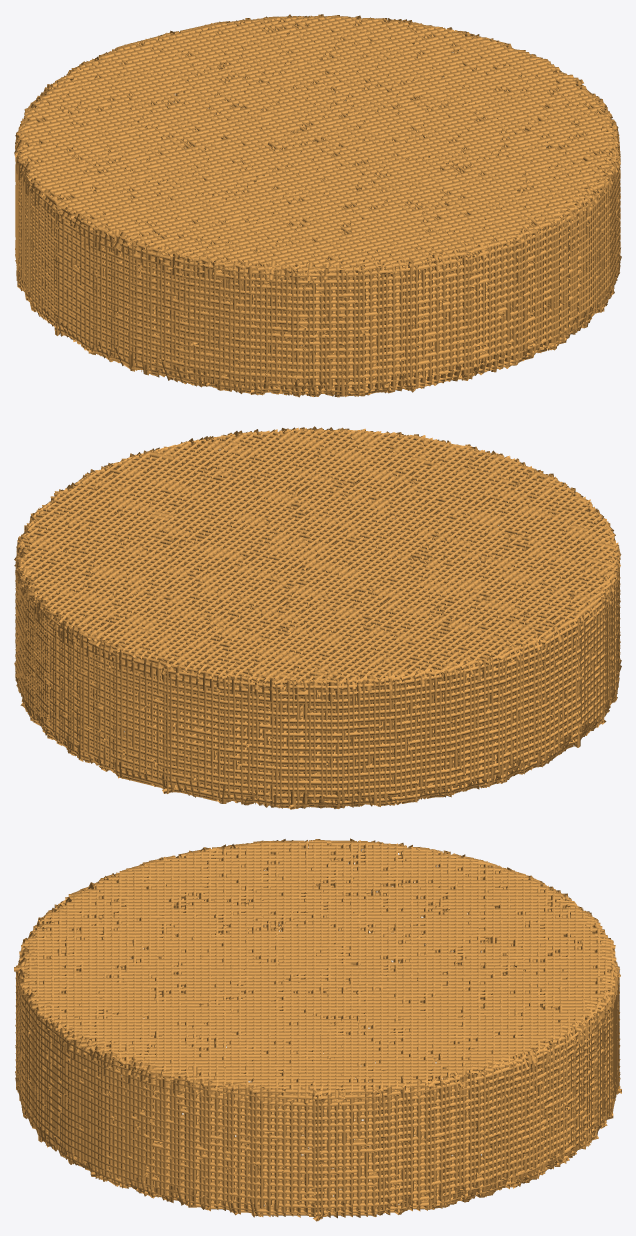
Rendered from Biscuit1.fbx.
The picture shows the model from 3 angles, top to bottom: view 1: azimuth 30°, elevation 25°; view 2: azimuth 150°, elevation 25°; view 3: azimuth 270°, elevation 25°; orthographic projection.
Parts seen in each view (by area): view 1: Circle; view 2: Circle; view 3: Circle.
Part boxes in pixels (bbox=[...]): Circle: bbox=[14, 14, 621, 397]; Circle: bbox=[14, 426, 621, 809]; Circle: bbox=[14, 838, 621, 1221].
Size of the model in its own units: 812 by 198 by 813.
